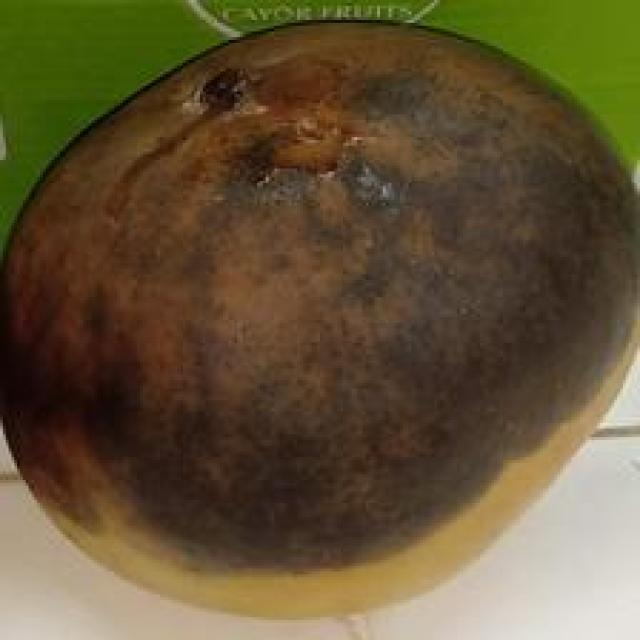Bad_Mango: (0, 24, 636, 616)
